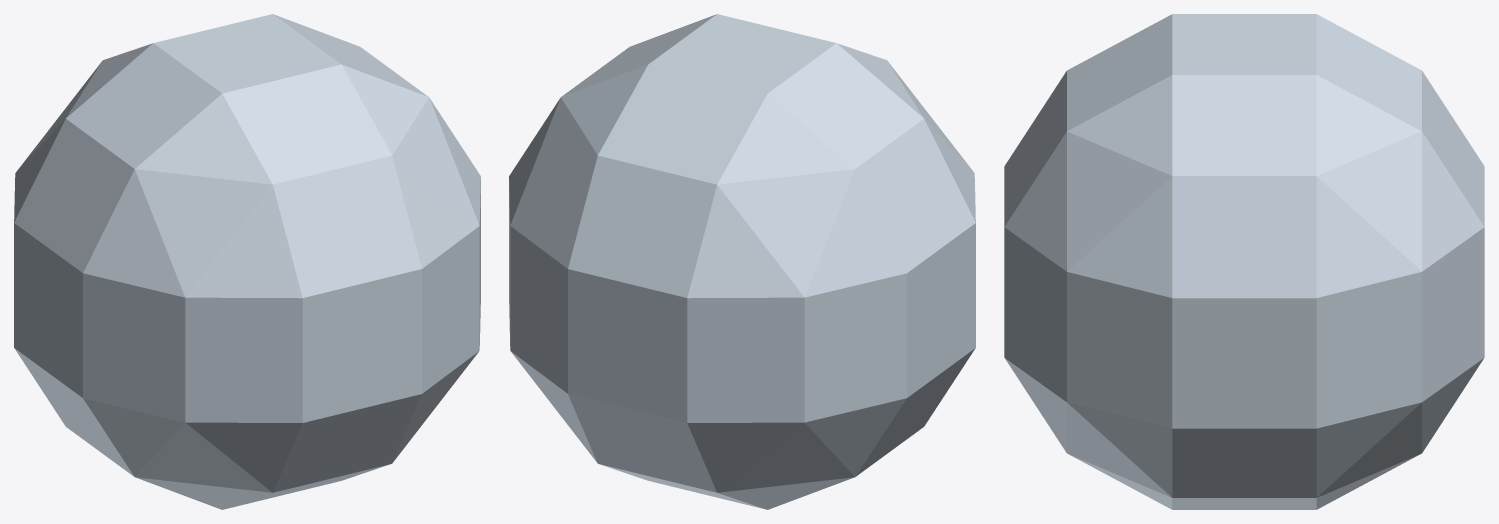
Rendered from ArmR.FBX.
3 renders of one model, left to right at view 1: azimuth 30°, elevation 25°; view 2: azimuth 150°, elevation 25°; view 3: azimuth 270°, elevation 25°, orthographic. The views are drawn at different scales.
Parts seen in each view (by area): view 1: VIFS001; view 2: VIFS001; view 3: VIFS001.
Boxes of the visible parts, x1=… form: VIFS001: x1=14, y1=14, x2=480, y2=509; VIFS001: x1=509, y1=14, x2=975, y2=509; VIFS001: x1=1004, y1=14, x2=1484, y2=509.
Bounding box in the file's own units: 0.3 × 0.3 × 0.3.
